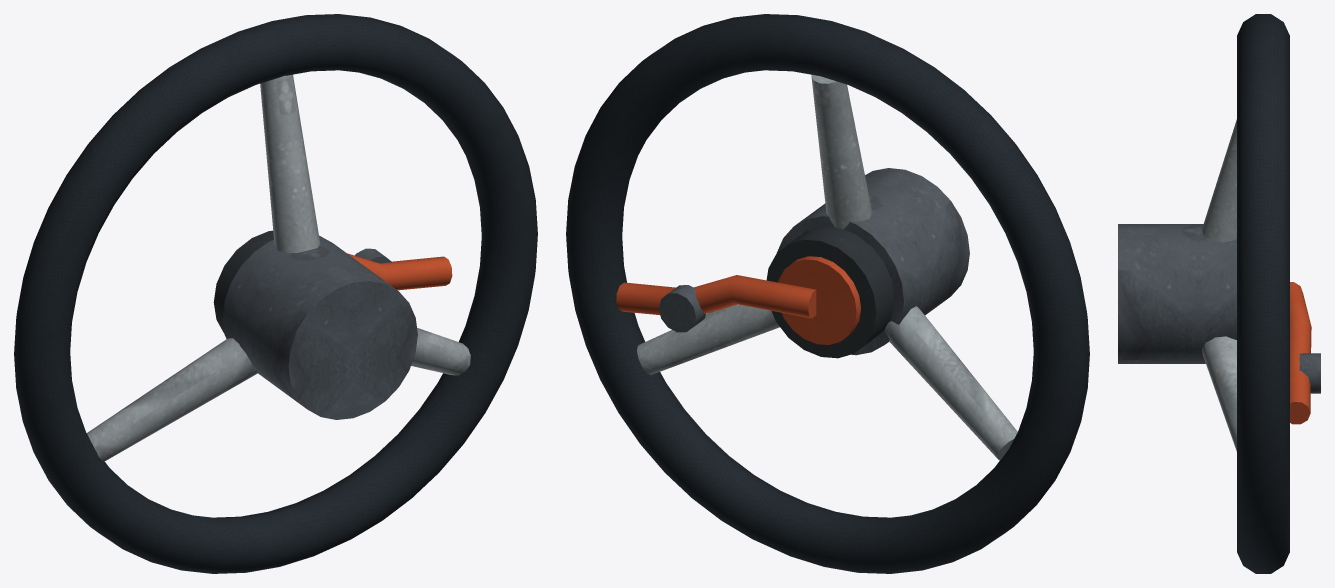
Rendered from prop_docking_wheel.fbx.
The picture shows the model from 3 angles, left to right: view 1: azimuth 30°, elevation 25°; view 2: azimuth 150°, elevation 25°; view 3: azimuth 270°, elevation 25°; orthographic projection. The views are drawn at different scales.
Visible parts, largest first — view 1: SM_prop_docking_wheel; view 2: SM_prop_docking_wheel; view 3: SM_prop_docking_wheel.
Boxes of the visible parts, x1=… form: SM_prop_docking_wheel: x1=14, y1=14, x2=537, y2=573; SM_prop_docking_wheel: x1=566, y1=14, x2=1089, y2=573; SM_prop_docking_wheel: x1=1118, y1=14, x2=1320, y2=573.
Bounding box in the file's own units: 0.6057 × 0.6057 × 0.219.
6 materials, 6 textured.
